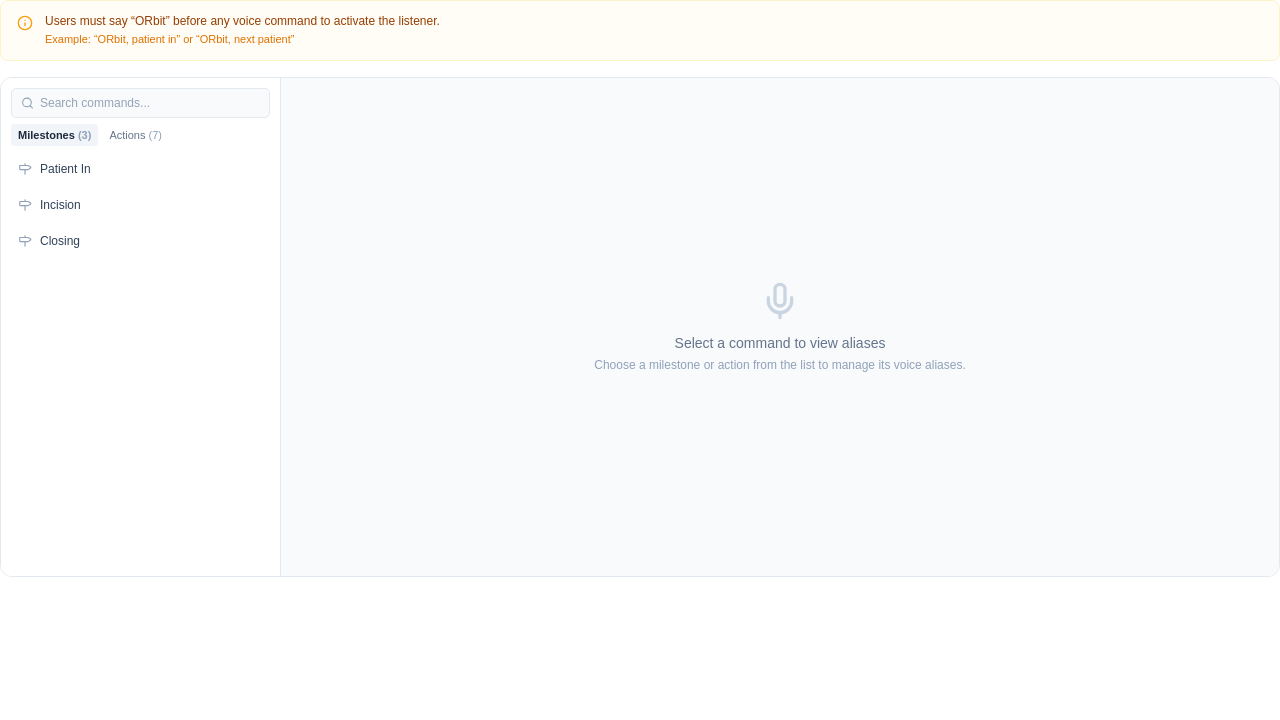
Test: VoiceCommandsPageClient › Integration: Tab switching and search › switching tabs clears selection
# Select a milestone
Click the text "Patient In".
click(65, 169)  # box 40,161 -> 91,177
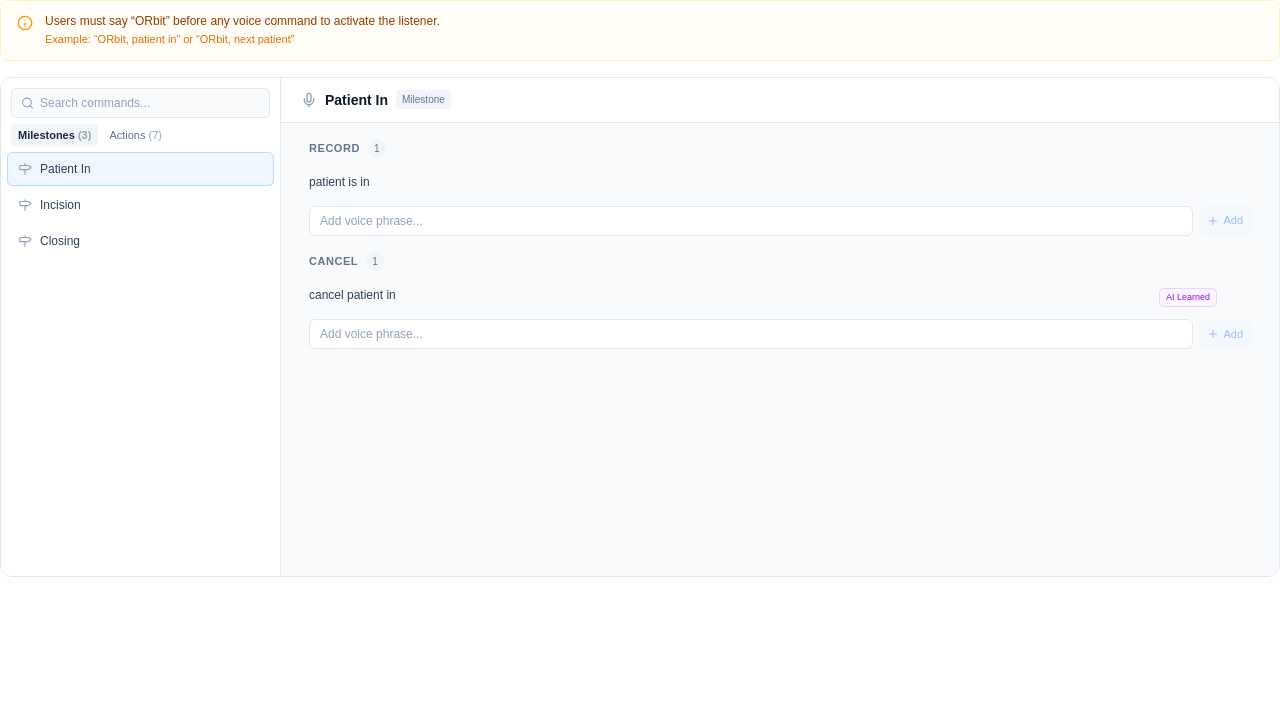
Now the text "Select a command to view aliases" is gone
# Switch to actions tab
Click the button "Actions (7)".
click(136, 135)  # box 102,124 -> 169,146
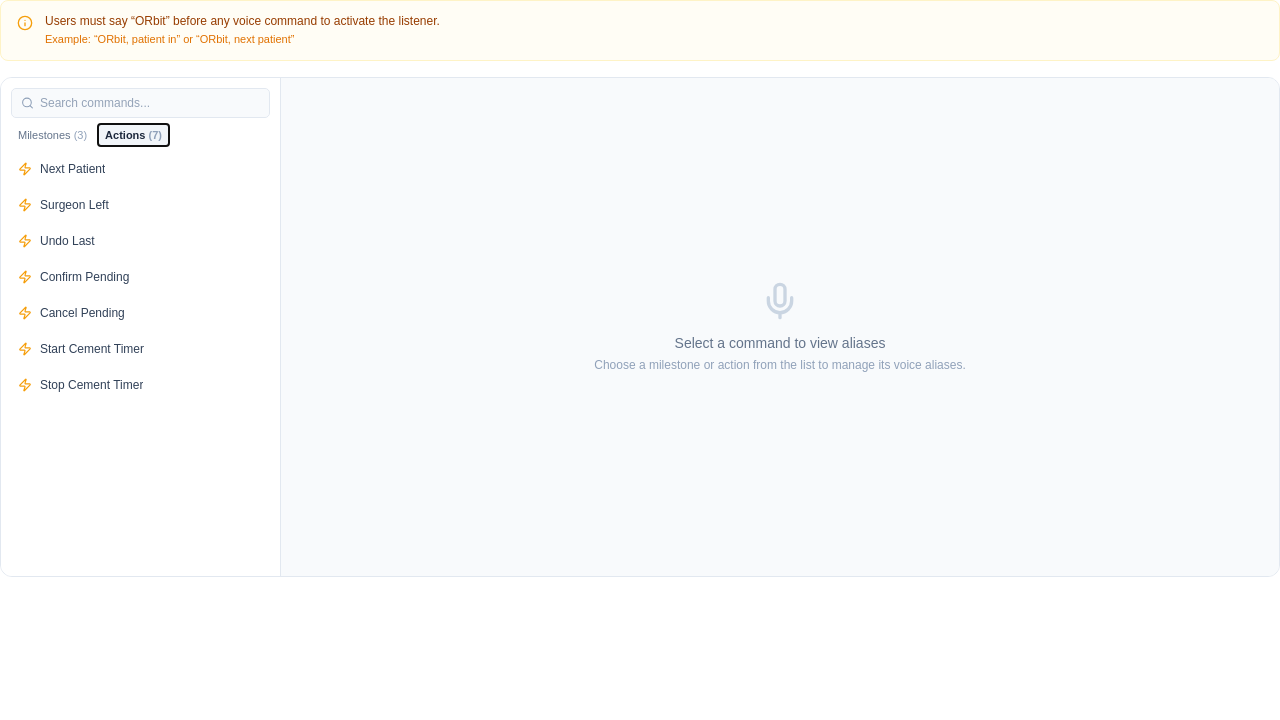
Now the text "Select a command to view aliases" is shown, box 675,332 -> 886,352
